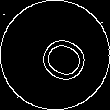O_NW: (23, 24, 87, 86)
